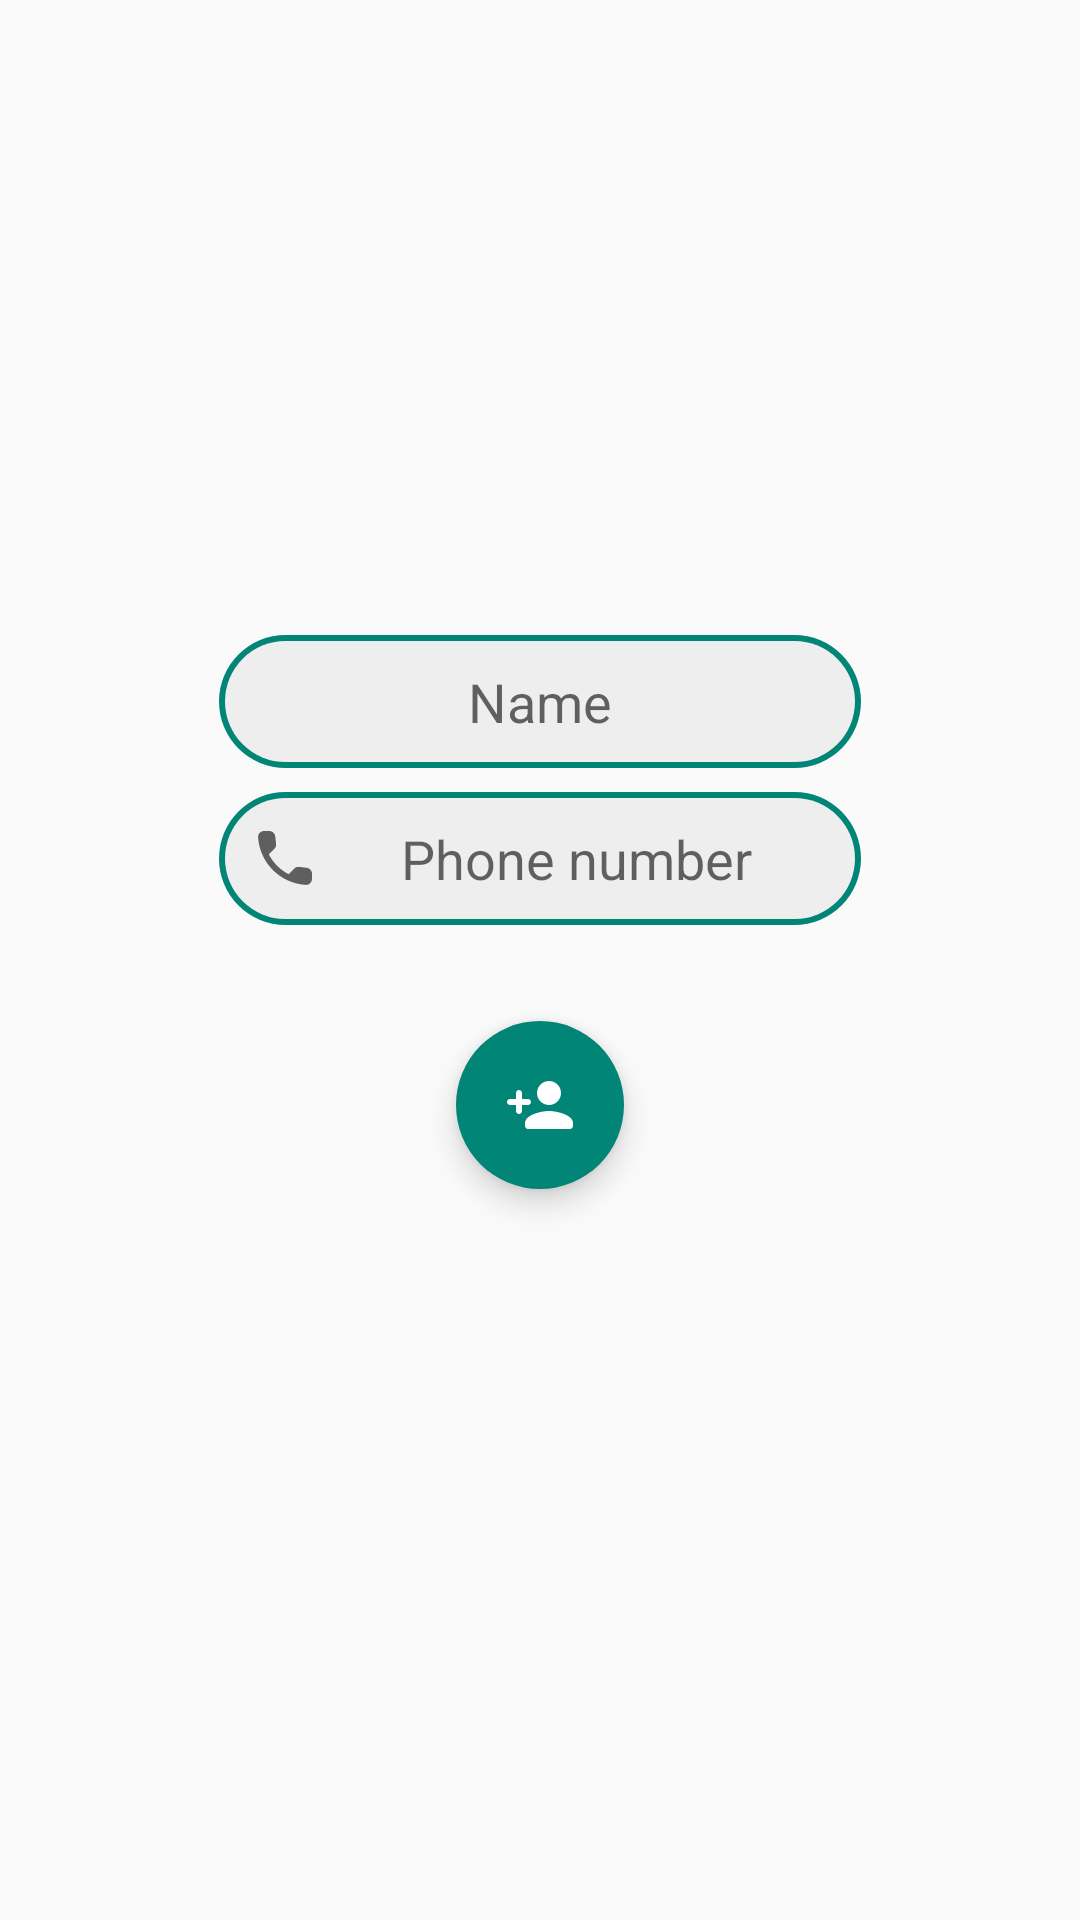

Locate icon controls on the screen. Image size 1080*1920, boxes as rect(x1, y1, x2, y2).
Add contact: rect(456, 1021, 624, 1189)
